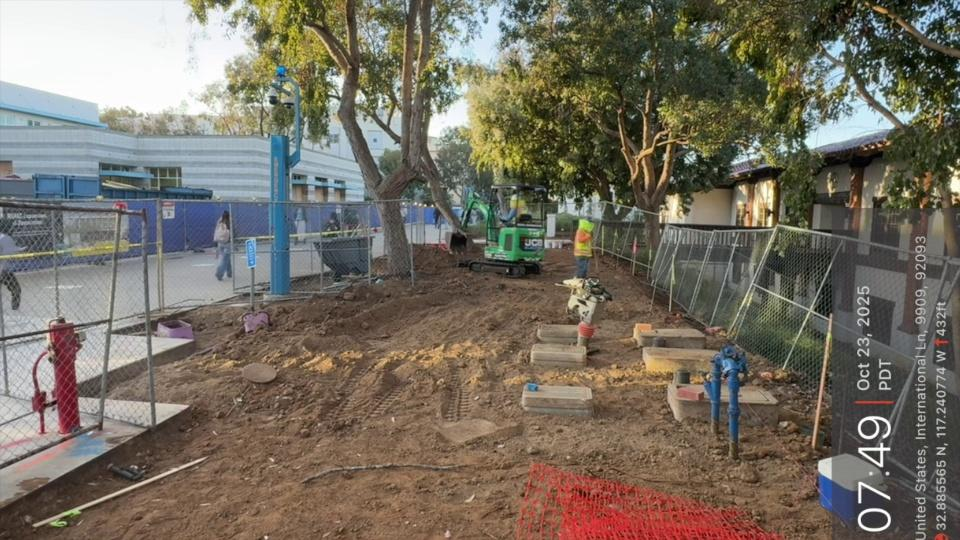Exacavator: (444, 181, 550, 278)
